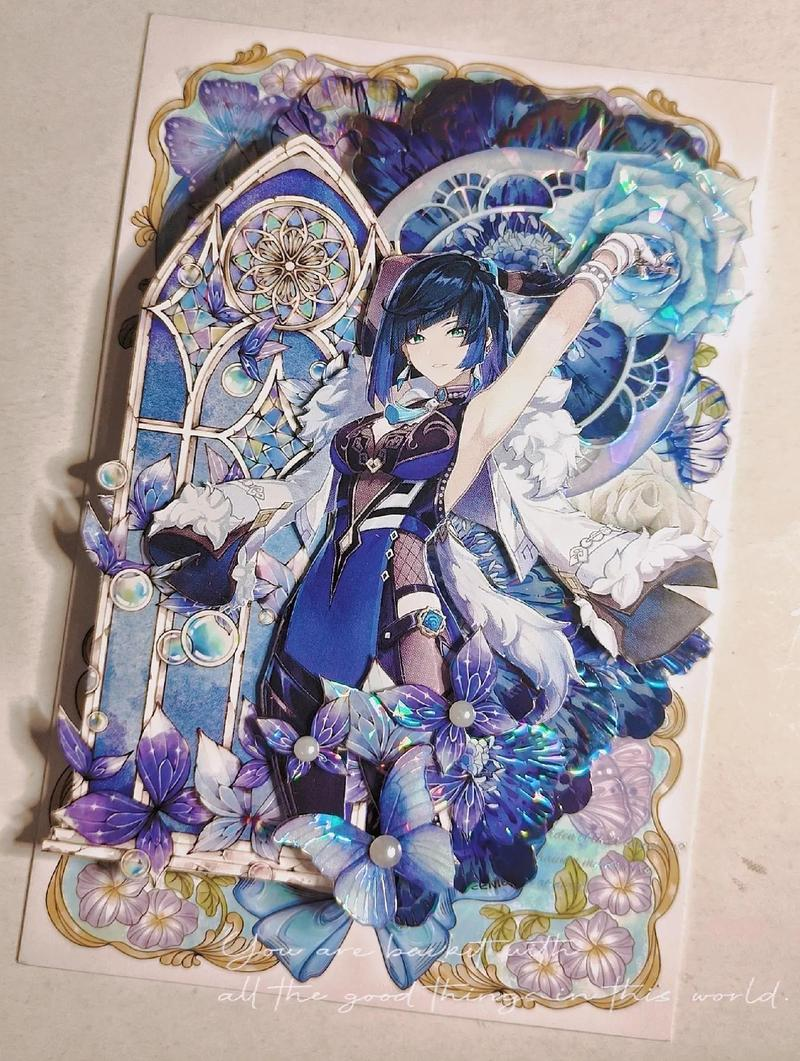夜兰: (242, 235, 684, 926)
